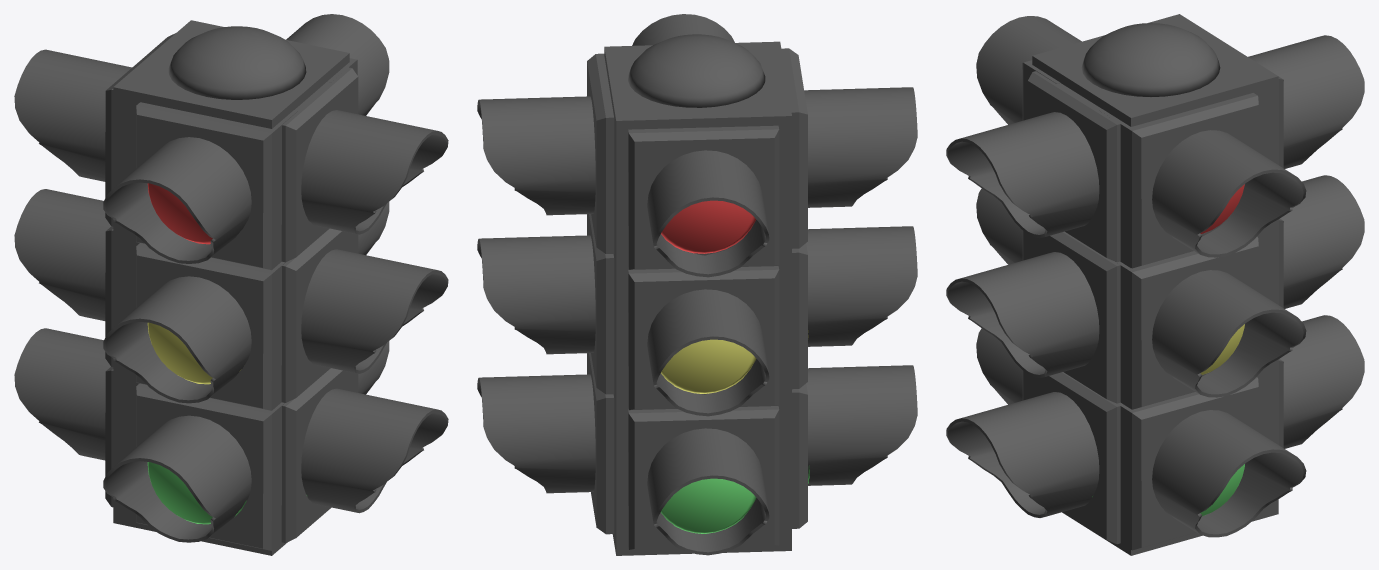
The model's file is semafor.fbx.
3 renders of one model, left to right at view 1: azimuth 30°, elevation 25°; view 2: azimuth 150°, elevation 25°; view 3: azimuth 270°, elevation 25°, orthographic.
Parts seen in each view (by area): view 1: Mesh.008; view 2: Mesh.008; view 3: Mesh.008.
Part boxes in pixels (<box>): Mesh.008: <box>14,14,448,555</box>; Mesh.008: <box>477,14,917,555</box>; Mesh.008: <box>946,14,1364,555</box>.
Bounding box in the file's own units: 298 × 371 × 298.
